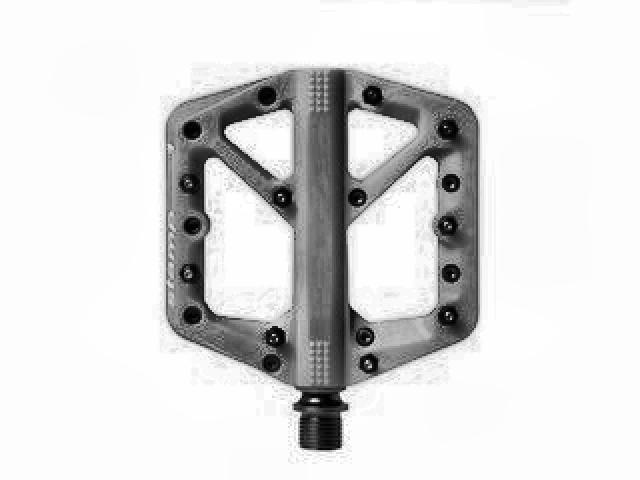pedal: (162, 60, 488, 461)
